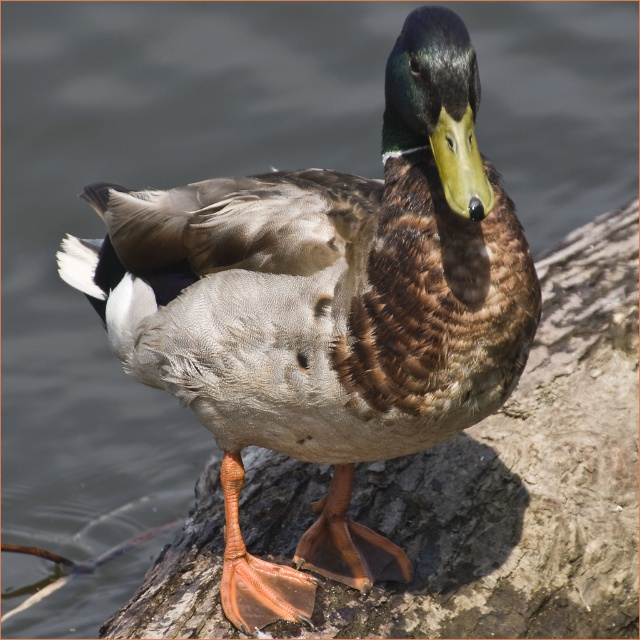Duck: (42, 23, 539, 621)
